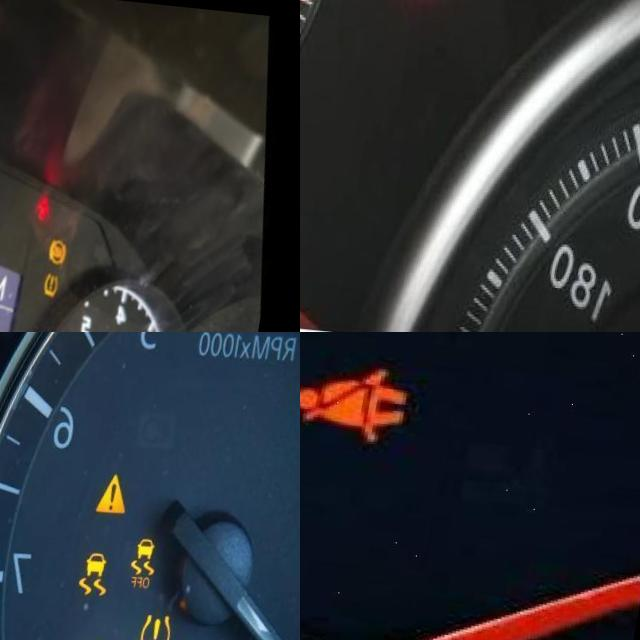Doors: (37, 184, 62, 219)
Seat Belt: (303, 357, 422, 435)
